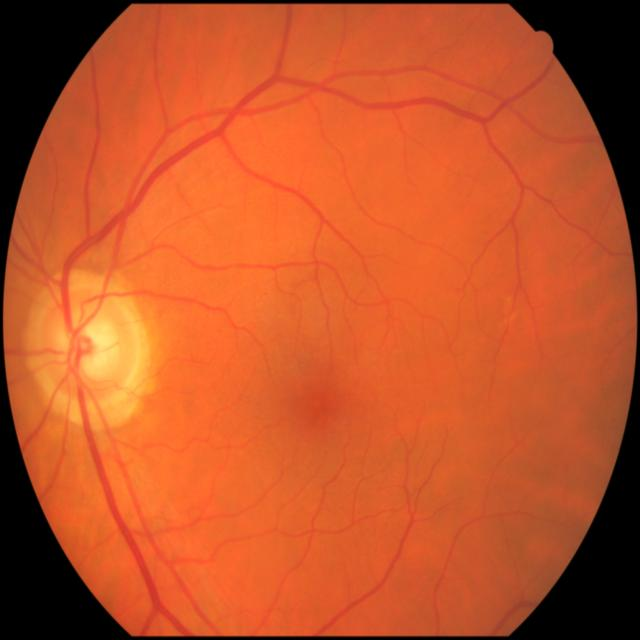OC: (74, 318, 120, 377)
OD: (39, 289, 136, 399)
